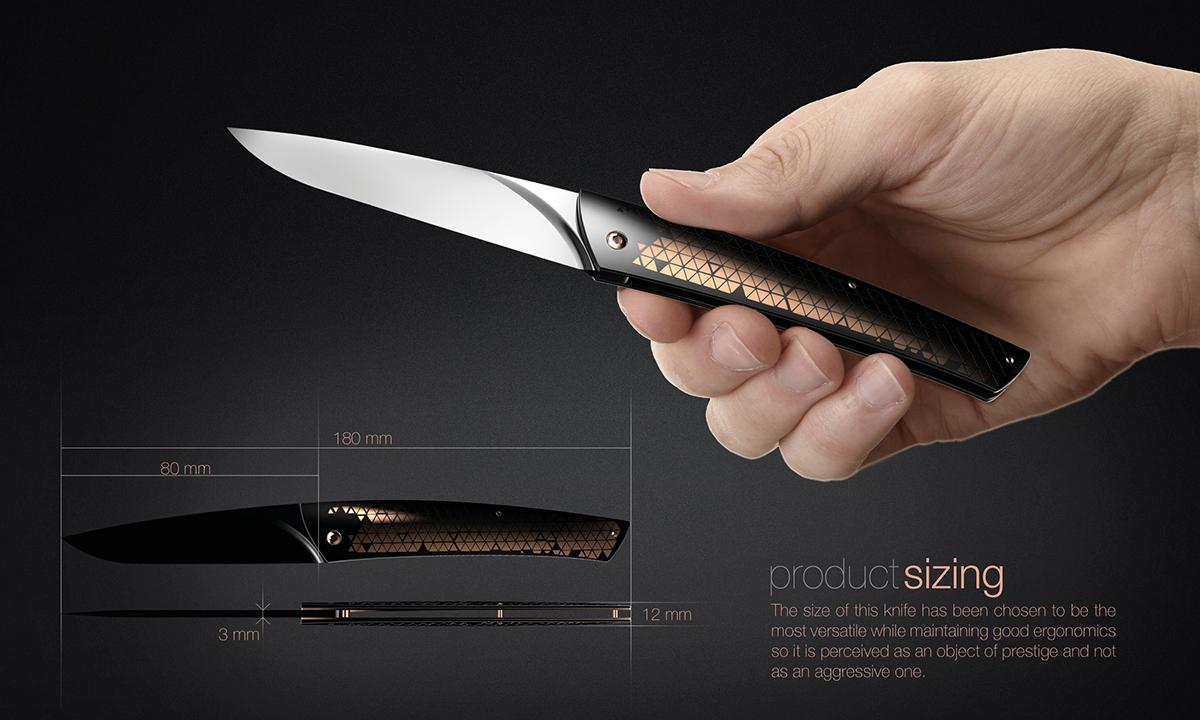knife: (179, 101, 1039, 402)
